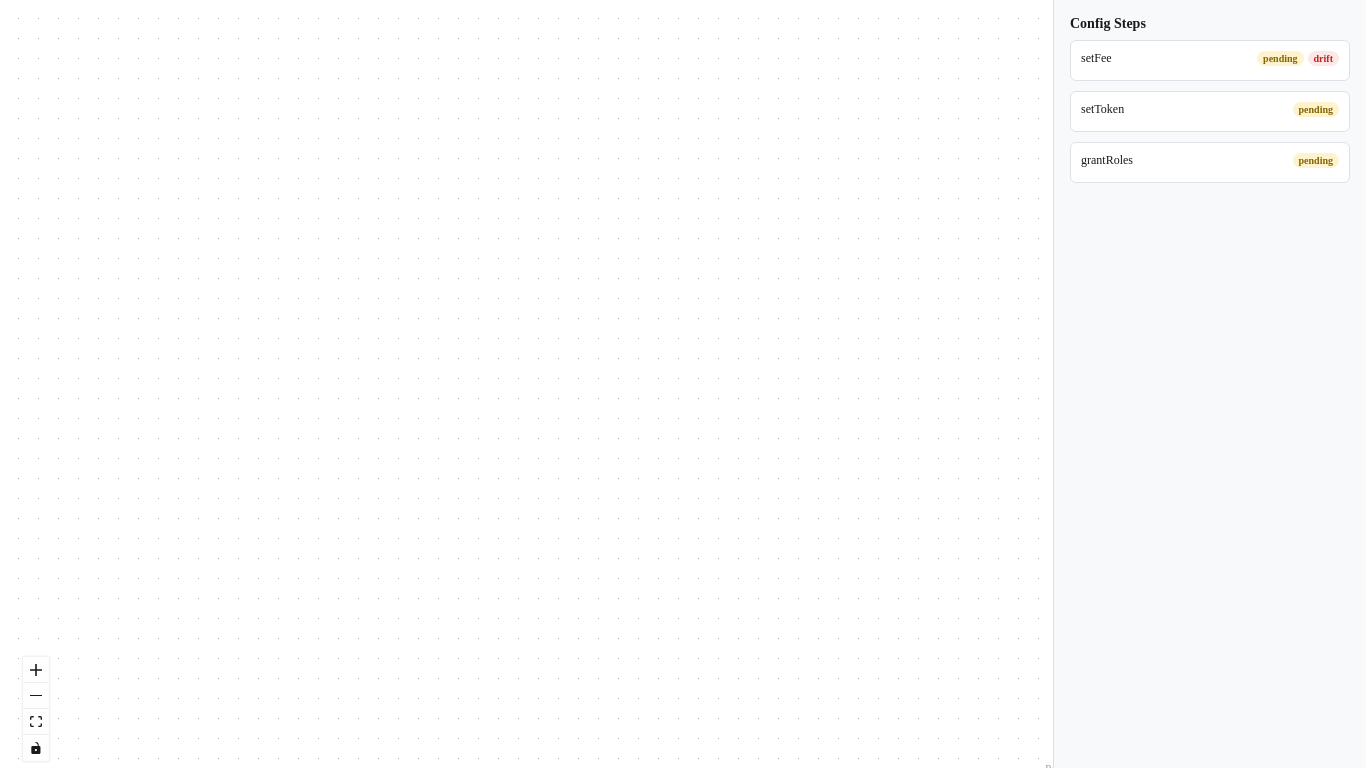
Scenario: Inspector — drift detail panel › truncates a very long expected/actual value instead of rendering it in full
Click the button with test id "config-step-setFee-drift" at (1323, 58), box [1308,51,1339,66]
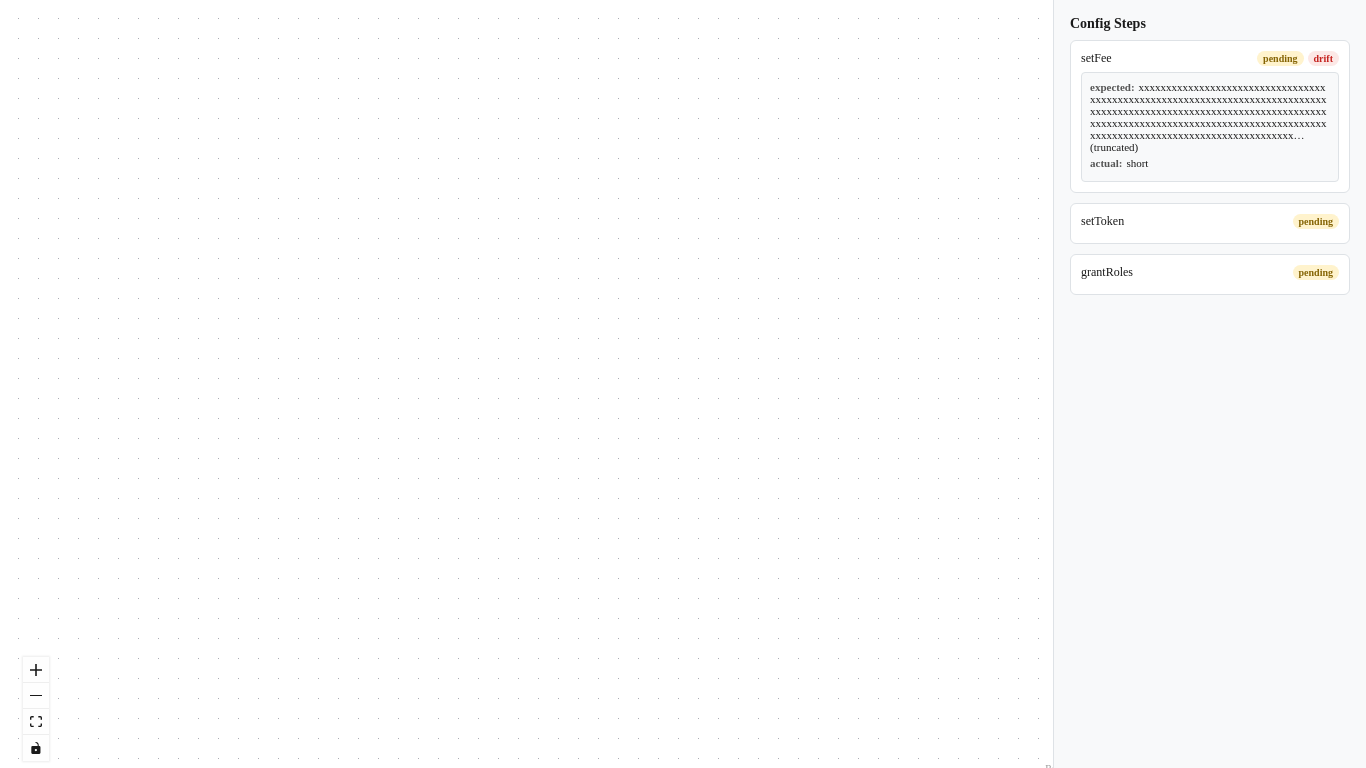
Check: the element with test id "config-step-setFee-drift-expected" shows "truncated", box [1090,81,1326,153]
